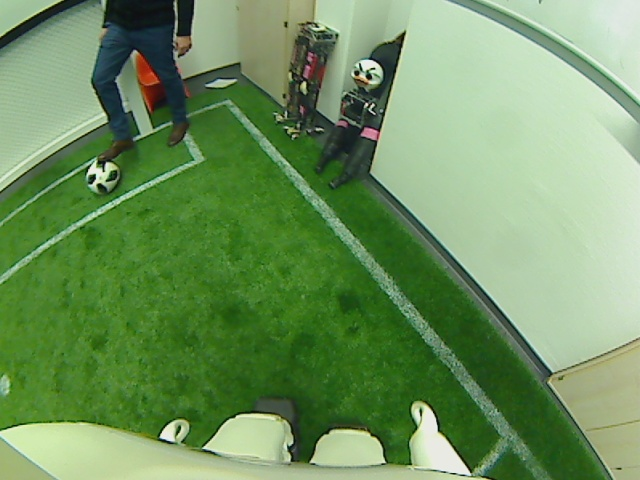ball: (85, 159, 120, 194)
